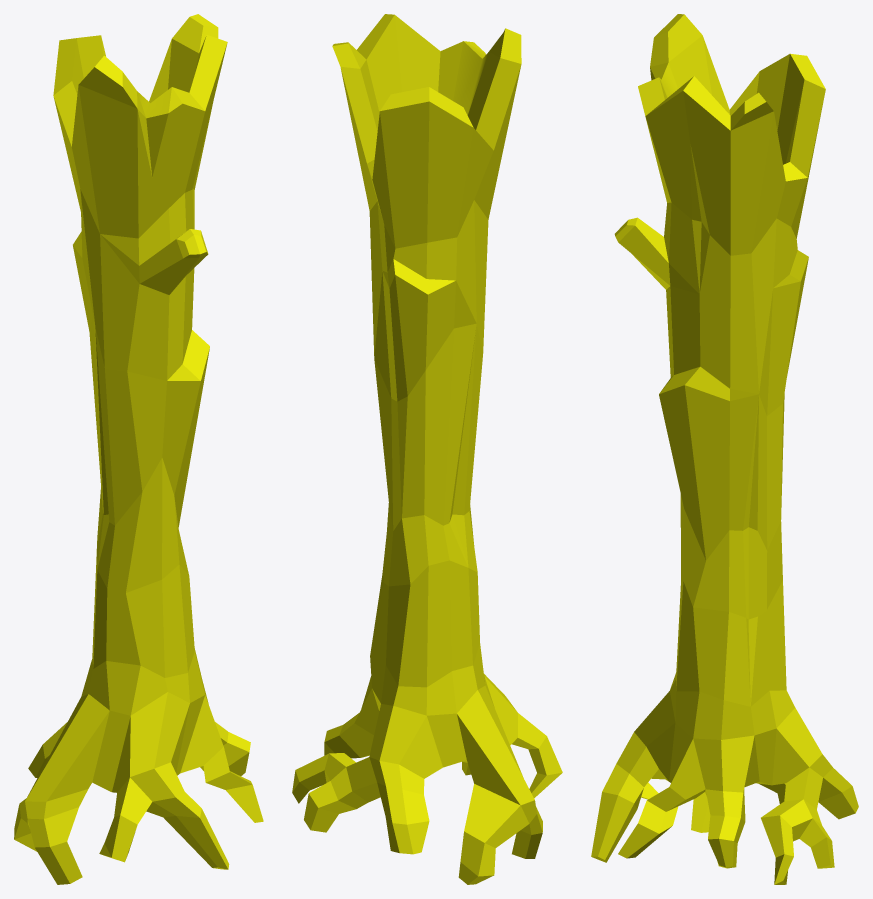
File: SM_Wep_ElementalGolem_01.glb
3 views of the same model, side by side, from view 1: azimuth 30°, elevation 25°; view 2: azimuth 150°, elevation 25°; view 3: azimuth 270°, elevation 25° (orthographic).
Visible parts, largest first — view 1: SM_Wep_ElementalGolem_01; view 2: SM_Wep_ElementalGolem_01; view 3: SM_Wep_ElementalGolem_01.
Part boxes in pixels (bbox=[...]): SM_Wep_ElementalGolem_01: bbox=[14, 14, 263, 884]; SM_Wep_ElementalGolem_01: bbox=[292, 14, 562, 884]; SM_Wep_ElementalGolem_01: bbox=[591, 14, 858, 884].
Bounding box in the file's own units: 0.4196 × 1.47 × 0.4294.
